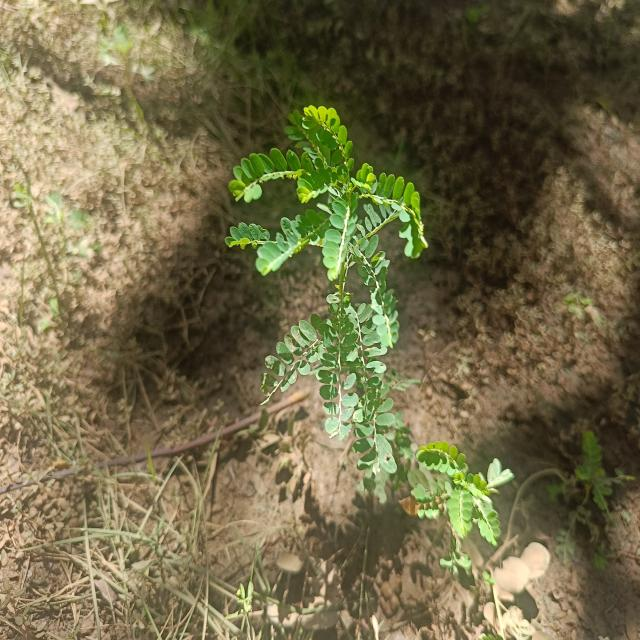weed: (217, 116, 512, 552)
